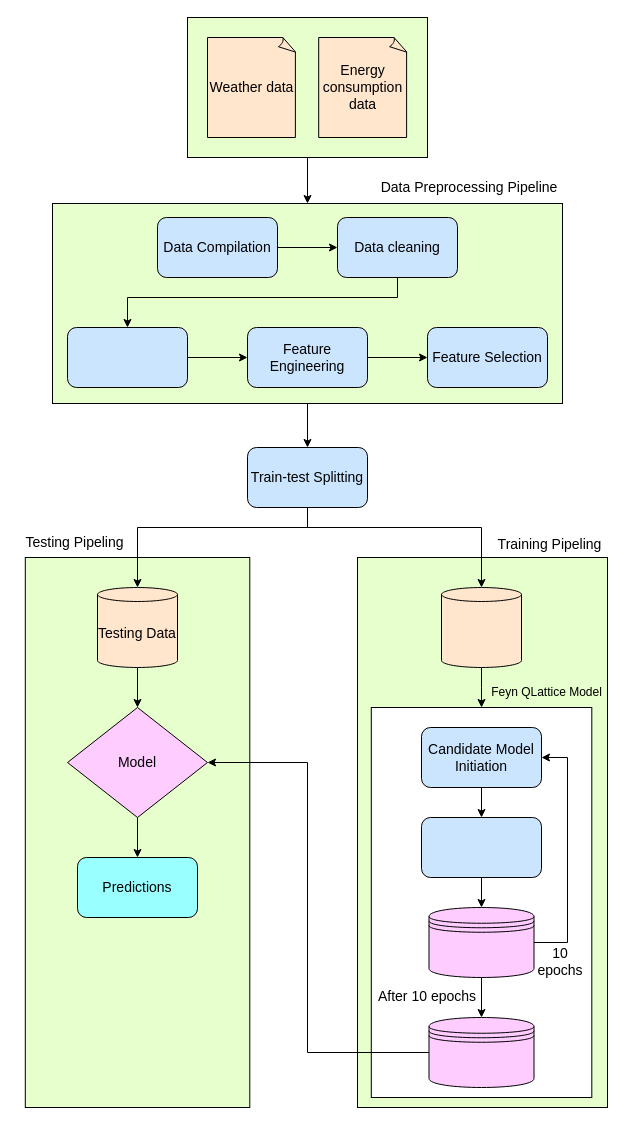
Image size: 625x1125. Some labels were removed from this diagram. The centre of each missing label's shape, as x and y in pixels:
"Best Model" goes at pixel 481 1052.
"Data Aggregation" goes at pixel 127 357.
"Model Training" goes at pixel 481 847.
"Top Performing Models" goes at pixel 481 942.
"Training Data" goes at pixel 481 627.
